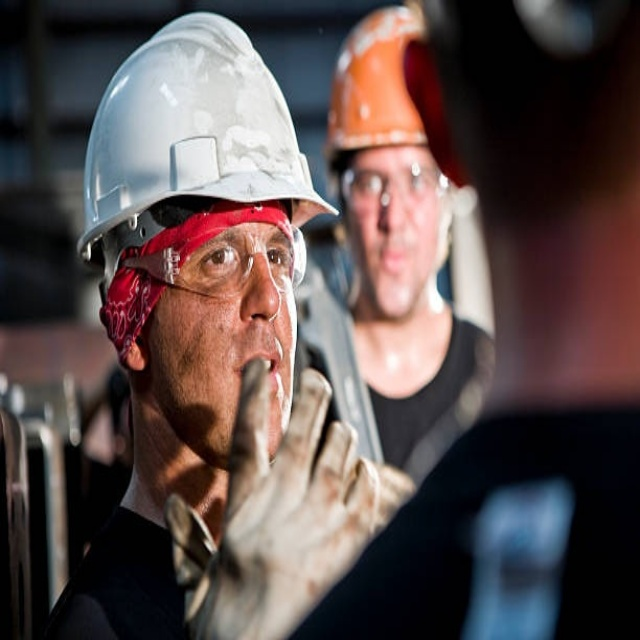Gafas: (124, 221, 306, 304), (335, 163, 451, 218)
Guantes: (167, 355, 416, 640)
Sin_mascara: (224, 334, 291, 395), (365, 231, 415, 300)
